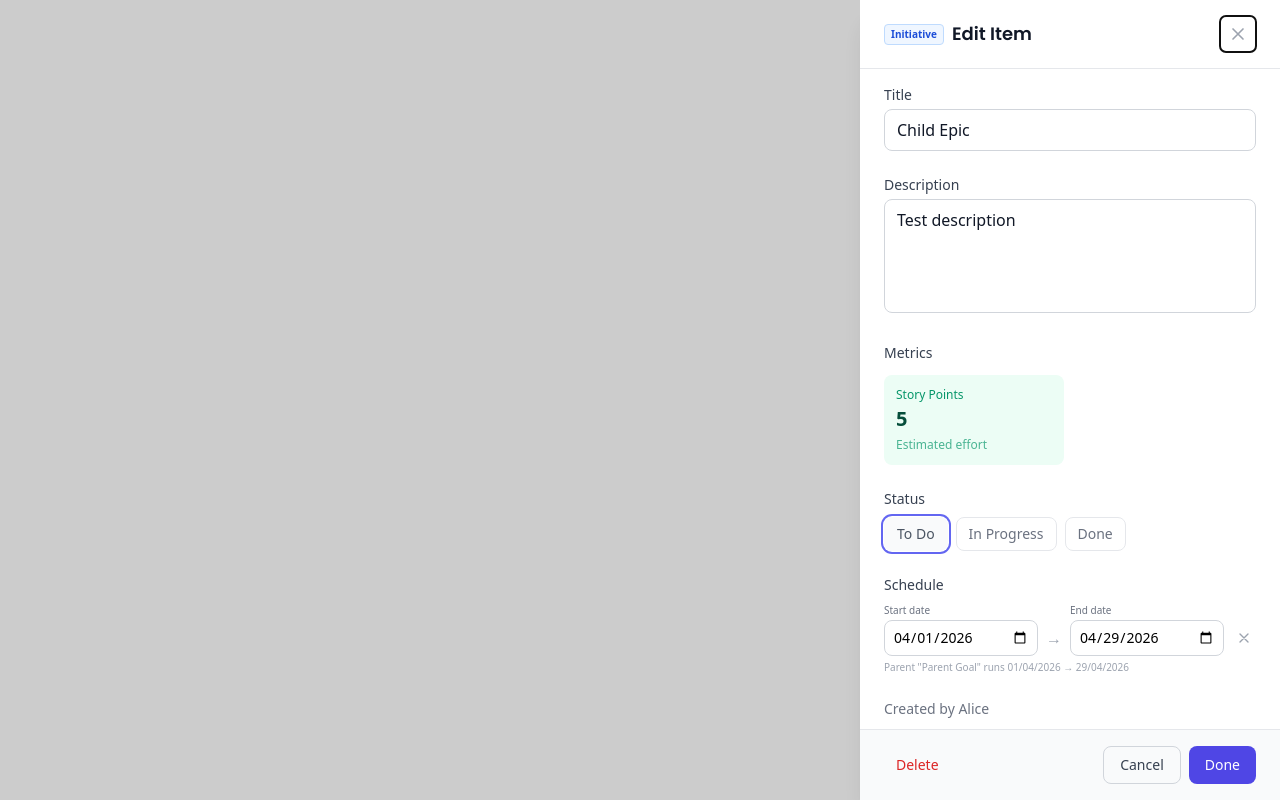
it: ItemDrawer › date validation enforcement › re-enables save button when dates are corrected
First break it
Step 1. Type "2026-05-15" into the date field showing "2026-04-29" below "End date" → [1147, 638], box [1070,620,1224,656]
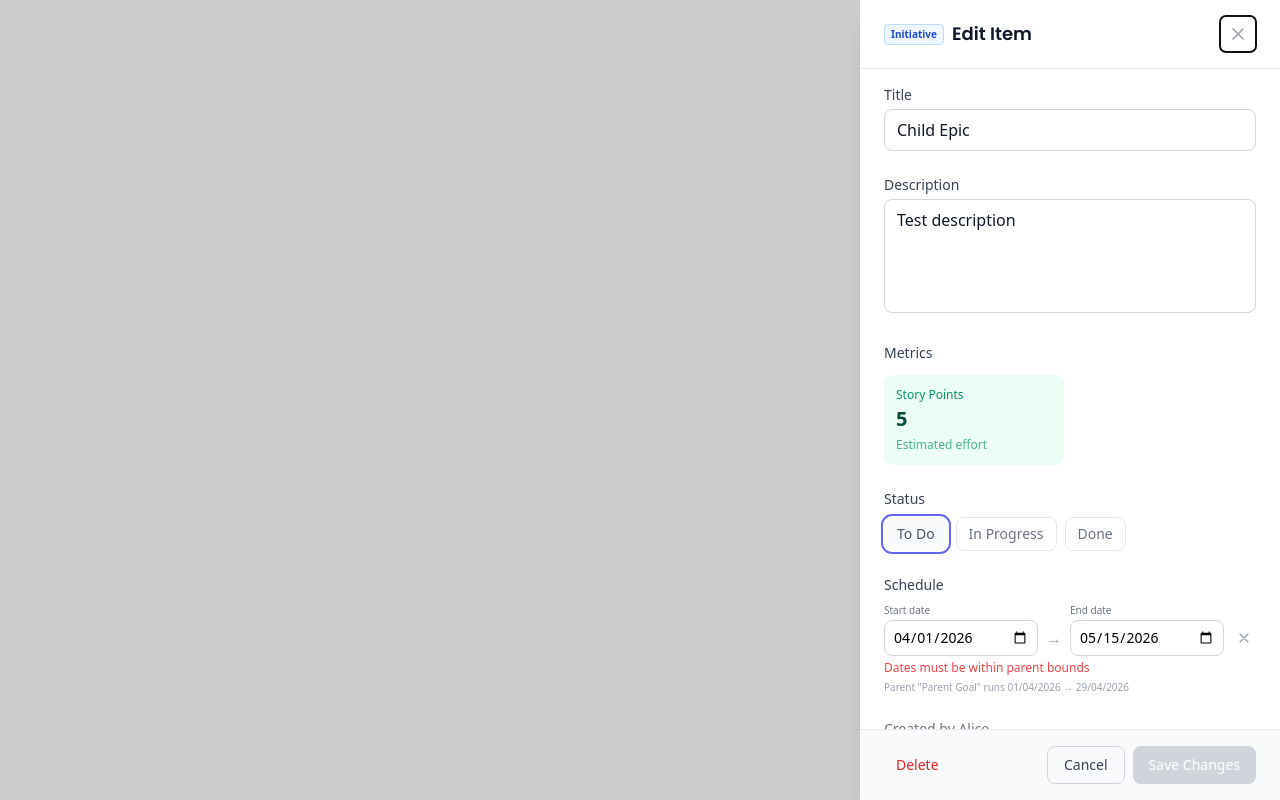
Expected: the button "Save Changes" is disabled, [1133,746,1256,784]
Then fix it
Step 2. Type "2026-04-20" into the date field showing "2026-04-29" below "End date" → [1147, 638], box [1070,620,1224,656]
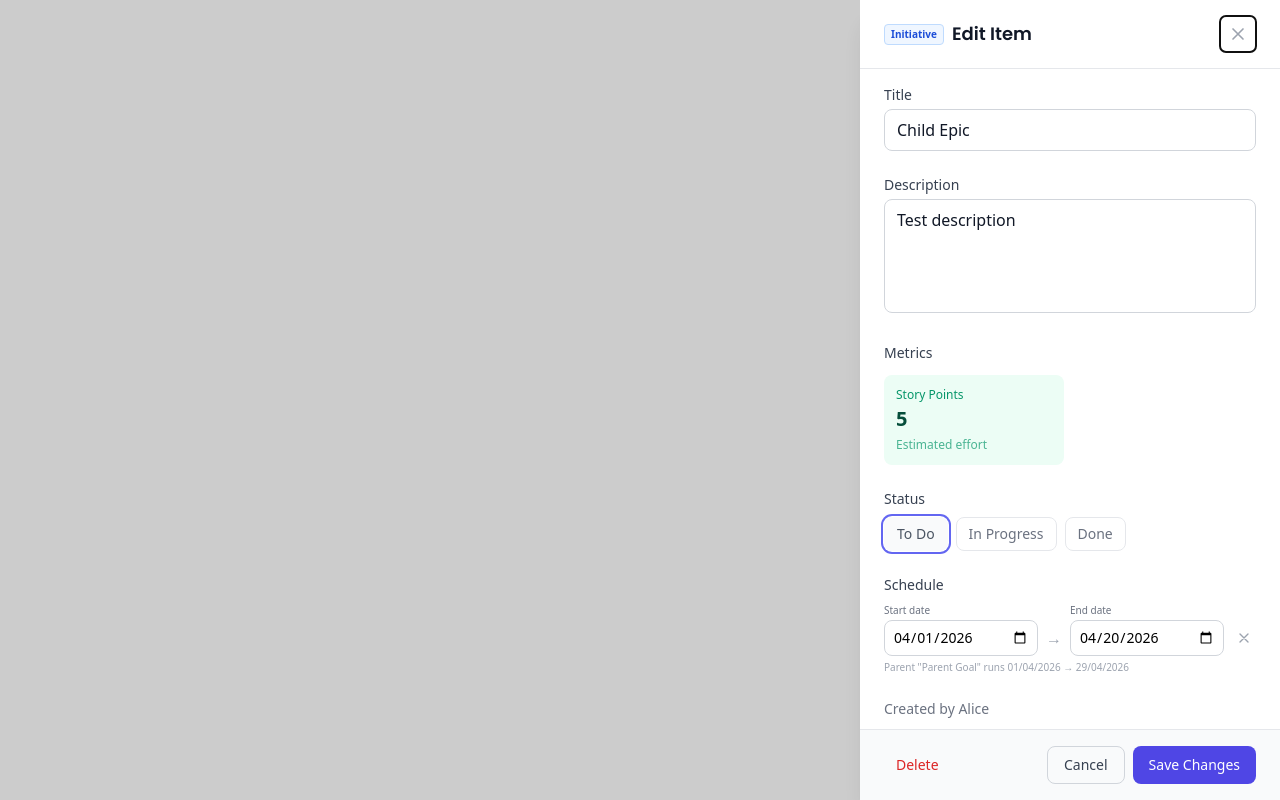
Expected: the button "Save Changes" is enabled, [1133,746,1256,784]
